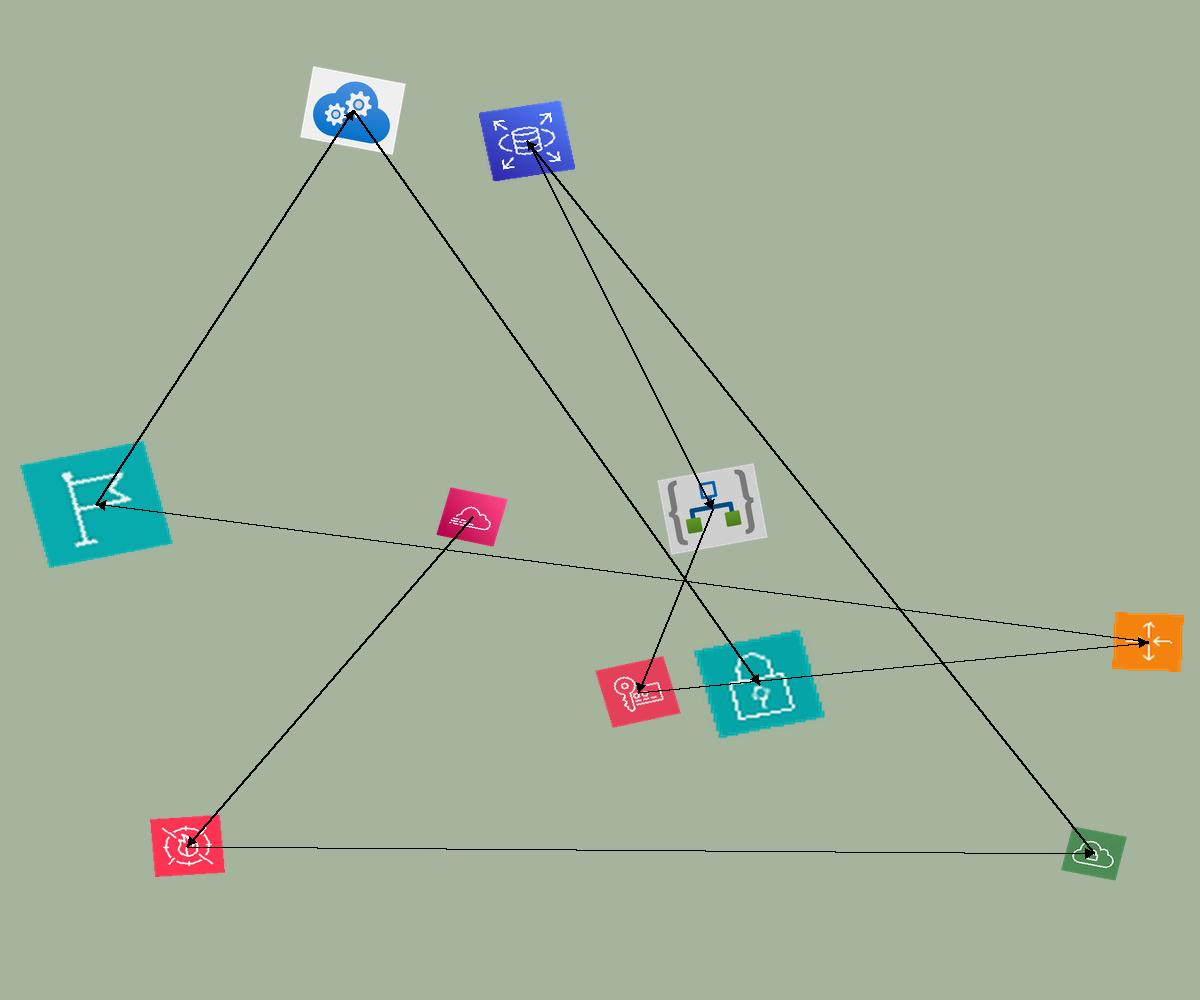AWS-CloudTrail: (436, 487, 508, 547)
AWS-Key-Management-Service: (595, 656, 681, 728)
AWS-Private-subnet: (692, 628, 827, 740)
AWS-Private_vpc: (1061, 826, 1127, 881)
AWS-RDS: (478, 100, 576, 182)
AWS-Region: (19, 440, 174, 569)
AWS-Scaling-group: (1112, 612, 1184, 672)
AWS-WAF: (150, 815, 225, 877)
Azure_cloud_services: (300, 66, 406, 155)
Azure_integration-204-Logic-Apps: (657, 463, 768, 555)
